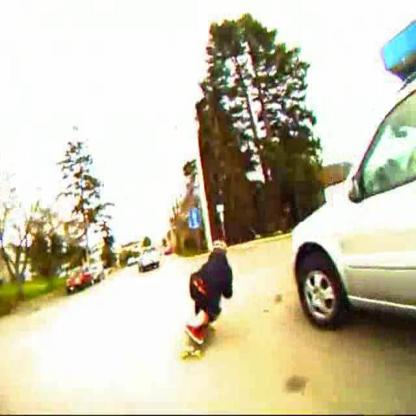other: (179, 302, 216, 368)
